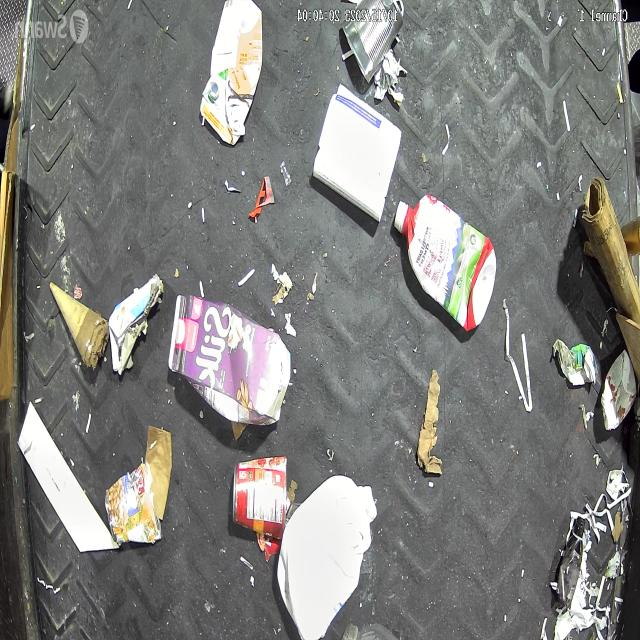can: (341, 0, 404, 84), (231, 454, 288, 540), (104, 461, 162, 544), (600, 349, 637, 432)
milk_jug: (276, 474, 378, 640)
non_white_jug: (168, 294, 290, 429), (394, 194, 496, 332), (200, 0, 262, 148)
